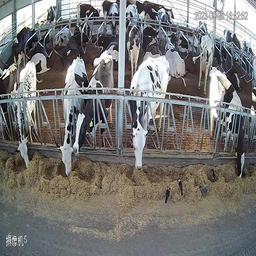cow: (72, 50, 114, 158), (208, 66, 247, 179), (129, 55, 165, 177), (56, 56, 90, 177), (14, 63, 37, 166), (12, 22, 37, 79), (164, 36, 188, 78), (63, 26, 87, 68), (198, 32, 215, 87), (126, 15, 141, 74), (76, 3, 100, 38), (31, 31, 50, 72), (1, 59, 13, 118), (222, 27, 242, 61), (102, 0, 119, 37), (142, 27, 160, 56), (157, 6, 173, 35), (173, 27, 189, 55), (124, 4, 138, 35), (110, 3, 119, 39), (46, 5, 56, 37), (244, 39, 255, 63), (199, 20, 208, 39)
